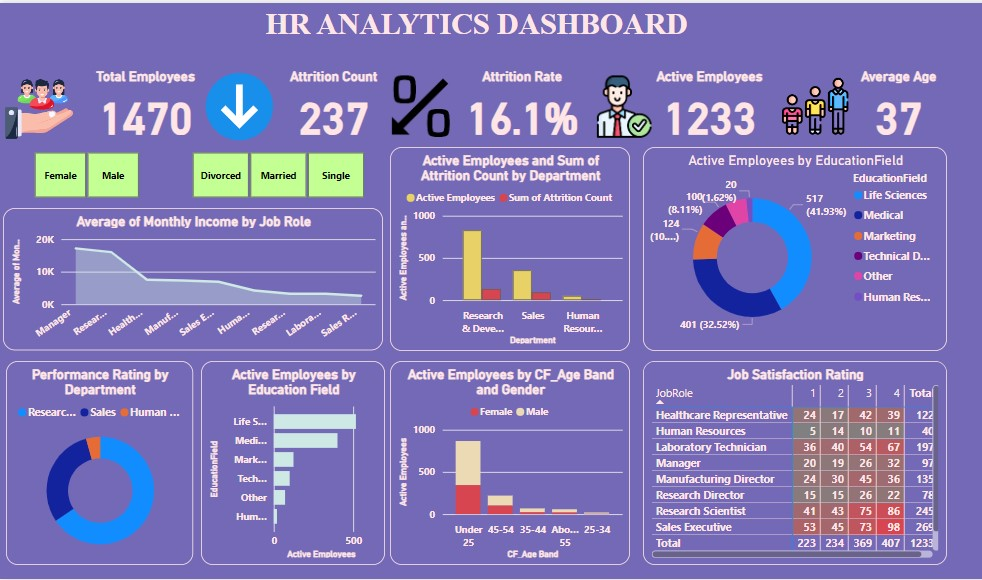

Layout of this report page (visuals, bound fields, positions):
{"tool":"powerbi","page":{"name":"Page 1","canvas":[1280,720],"ordinal":0},"visuals":[{"type":"card","title":"Total Employees","fields":{"Values":["Sum(HR-Employee-Attrition.EmployeeCount)"]},"box":[98.8,80.7,169,95.1],"z":0,"group":"g1"},{"type":"clusteredColumnChart","fields":{"Y":["HR-Employee-Attrition.Active Employees","Sum(HR-Employee-Attrition.Attrition Count)"],"Category":["HR-Employee-Attrition.Department"]},"box":[489.2,179.5,300,255.4],"z":0},{"type":"card","title":"Attrition Count","fields":{"Values":["Sum(HR-Employee-Attrition.Attrition Count)"]},"box":[334.4,80.7,169,95.1],"z":1000,"group":"g1"},{"type":"donutChart","fields":{"Y":["HR-Employee-Attrition.Active Employees"],"Category":["HR-Employee-Attrition.EducationField"]},"box":[804.8,179.5,379.5,255.4],"z":1000},{"type":"card","title":"Attrition Rate","fields":{"Values":["HR-Employee-Attrition.Attrtion Rate"]},"box":[569.9,80.7,167.7,95.1],"z":2000,"group":"g1"},{"type":"columnChart","fields":{"Y":["HR-Employee-Attrition.Active Employees"],"Category":["HR-Employee-Attrition.CF_Age Band"],"Series":["HR-Employee-Attrition.Gender"]},"box":[489.2,447,300,255.4],"z":2000},{"type":"card","title":"Active Employees","fields":{"Values":["HR-Employee-Attrition.Active Employees"]},"box":[804.3,80.7,169,95.1],"z":3000,"group":"g1"},{"type":"pivotTable","title":"Job Satisfaction Rating","fields":{"Rows":["HR-Employee-Attrition.JobRole"],"Columns":["HR-Employee-Attrition.JobSatisfaction"],"Values":["HR-Employee-Attrition.Active Employees"]},"box":[804.8,447,379.5,255.4],"z":3000},{"type":"card","title":"Average Age","fields":{"Values":["Avg(HR-Employee-Attrition.Age)"]},"box":[1039.8,80.7,169,95.1],"z":4000,"group":"g1"},{"type":"donutChart","title":"Performance Rating by Department","fields":{"Y":["Sum(HR-Employee-Attrition.PerformanceRating)"],"Category":["HR-Employee-Attrition.Department"]},"box":[8.4,447,233.7,255.4],"z":4000},{"type":"clusteredBarChart","title":"Active Employees by Education Field","fields":{"Y":["HR-Employee-Attrition.Active Employees"],"Category":["HR-Employee-Attrition.EducationField"]},"box":[253,447,230.1,255.4],"z":5000},{"type":"areaChart","title":"Average of Monthly Income by Job Role","fields":{"Category":["HR-Employee-Attrition.JobRole"],"Y":["Avg(HR-Employee-Attrition.MonthlyIncome)"]},"box":[4.8,256.6,474.7,178.3],"z":6000},{"type":"slicer","fields":{"Values":["HR-Employee-Attrition.Gender"]},"box":[19.3,179.5,179.5,69.9],"z":7000},{"type":"slicer","fields":{"Values":["HR-Employee-Attrition.MaritalStatus"]},"box":[215.7,179.5,263.9,69.9],"z":8000},{"type":"group","id":"g1","title":"Group 1","box":[98.8,80.7,1109.6,95.2],"z":9000},{"type":"image","box":[253,81.9,95.2,94],"z":10000},{"type":"image","box":[0,81.9,100,100],"z":11000},{"type":"image","box":[973.5,81.9,92.8,94],"z":12000},{"type":"image","box":[483.1,81.9,86.7,94],"z":13000},{"type":"image","box":[737.3,81.9,88,94],"z":14000},{"type":"textbox","box":[0,0,1194,68.7],"z":15000}]}

Visuals, with their boxes on the page's 1280x720 design canvas (x1, y1, x2, y2). These are canvas units, not pixel positions in the 982x580 screenshot, which may show the page scaled, cropped or inside an application window:
"Total Employees" card: (99, 81, 268, 176)
clusteredColumnChart - HR-Employee-Attrition.Active Employees x Sum(HR-Employee-Attrition.Attrition Count): (489, 180, 789, 435)
"Attrition Count" card: (334, 81, 503, 176)
donutChart - HR-Employee-Attrition.Active Employees x HR-Employee-Attrition.EducationField: (805, 180, 1184, 435)
"Attrition Rate" card: (570, 81, 738, 176)
columnChart - HR-Employee-Attrition.Active Employees x HR-Employee-Attrition.CF_Age Band: (489, 447, 789, 702)
"Active Employees" card: (804, 81, 973, 176)
"Job Satisfaction Rating" pivotTable: (805, 447, 1184, 702)
"Average Age" card: (1040, 81, 1209, 176)
"Performance Rating by Department" donutChart: (8, 447, 242, 702)
"Active Employees by Education Field" clusteredBarChart: (253, 447, 483, 702)
"Average of Monthly Income by Job Role" areaChart: (5, 257, 480, 435)
slicer - HR-Employee-Attrition.Gender: (19, 180, 199, 249)
slicer - HR-Employee-Attrition.MaritalStatus: (216, 180, 480, 249)
"Group 1" group: (99, 81, 1208, 176)
image: (253, 82, 348, 176)
image: (0, 82, 100, 182)
image: (974, 82, 1066, 176)
image: (483, 82, 570, 176)
image: (737, 82, 825, 176)
textbox: (0, 0, 1194, 69)
